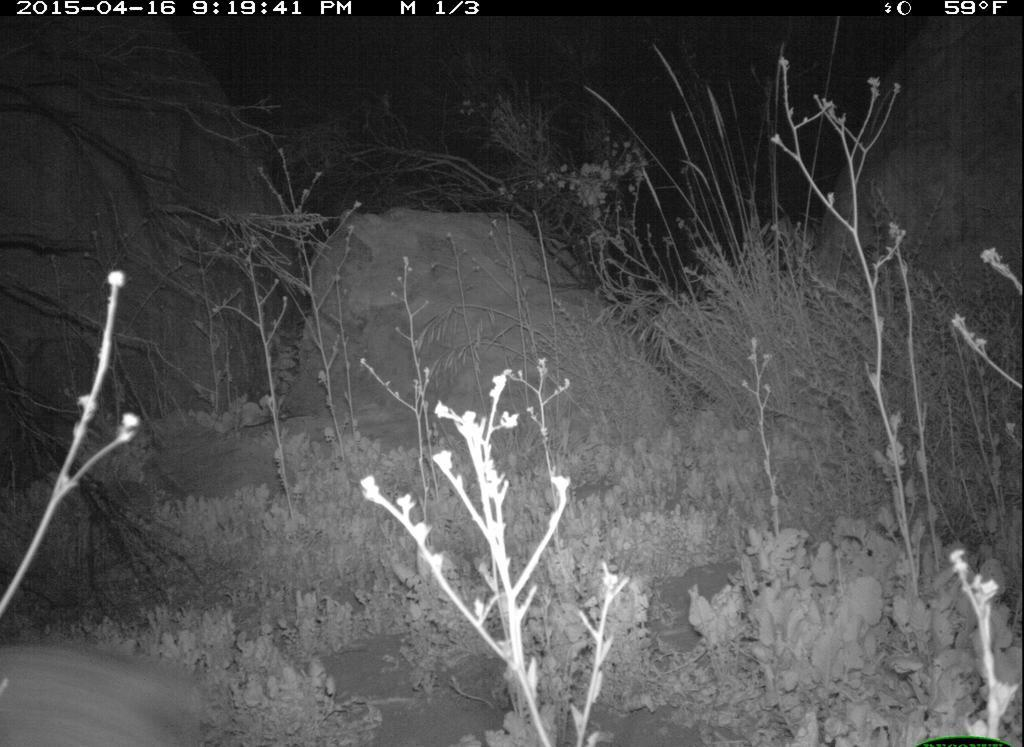rabbit: (2, 626, 216, 745)
